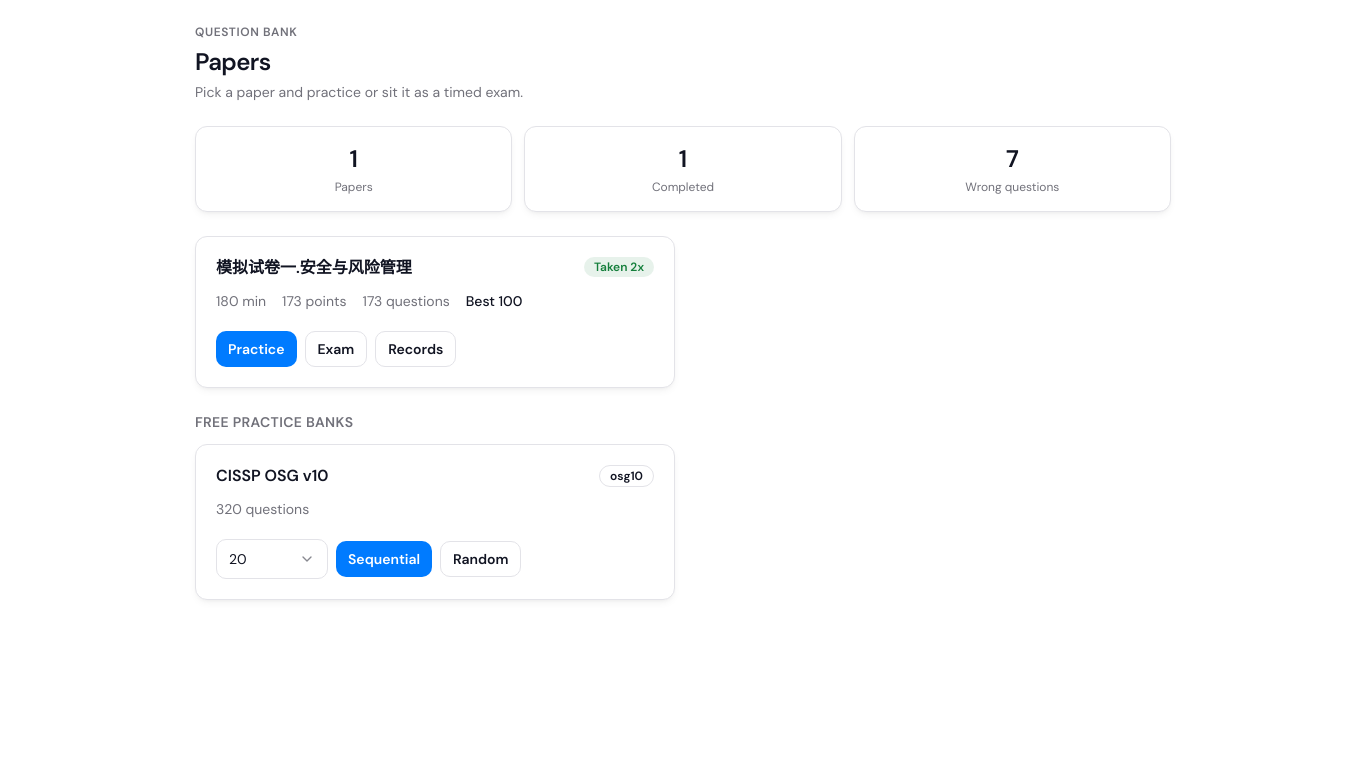
Scenario: <PapersView> › opens the answer-records modal with stats and history (FR-PAPER-14)
Click the button with aria-label "Records: 模拟试卷": (416, 349) [375,331,456,367]
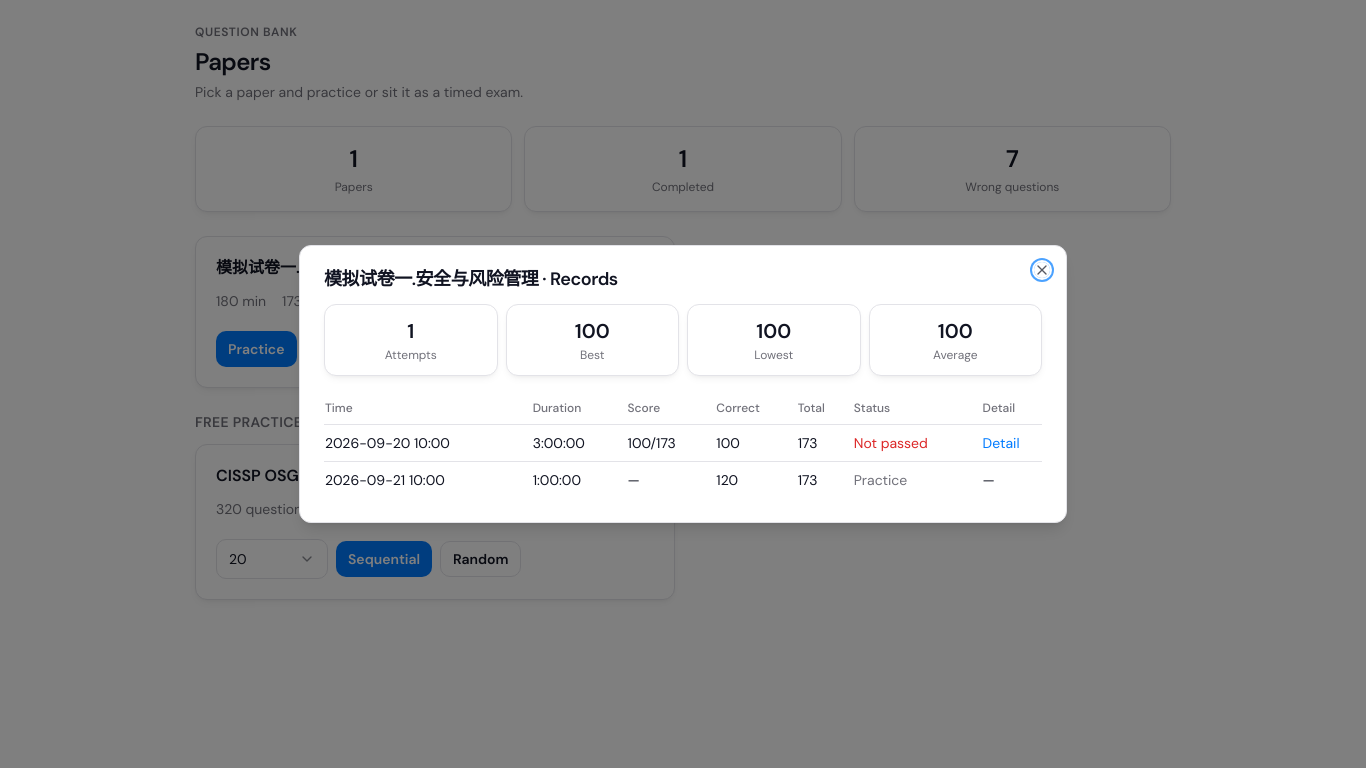
Check: the dialog is shown, box [299,245,1067,523]
Check: the text "Attempts" is shown, box [385,347,437,363]
Check: the text "Best" is shown, box [580,347,604,363]
